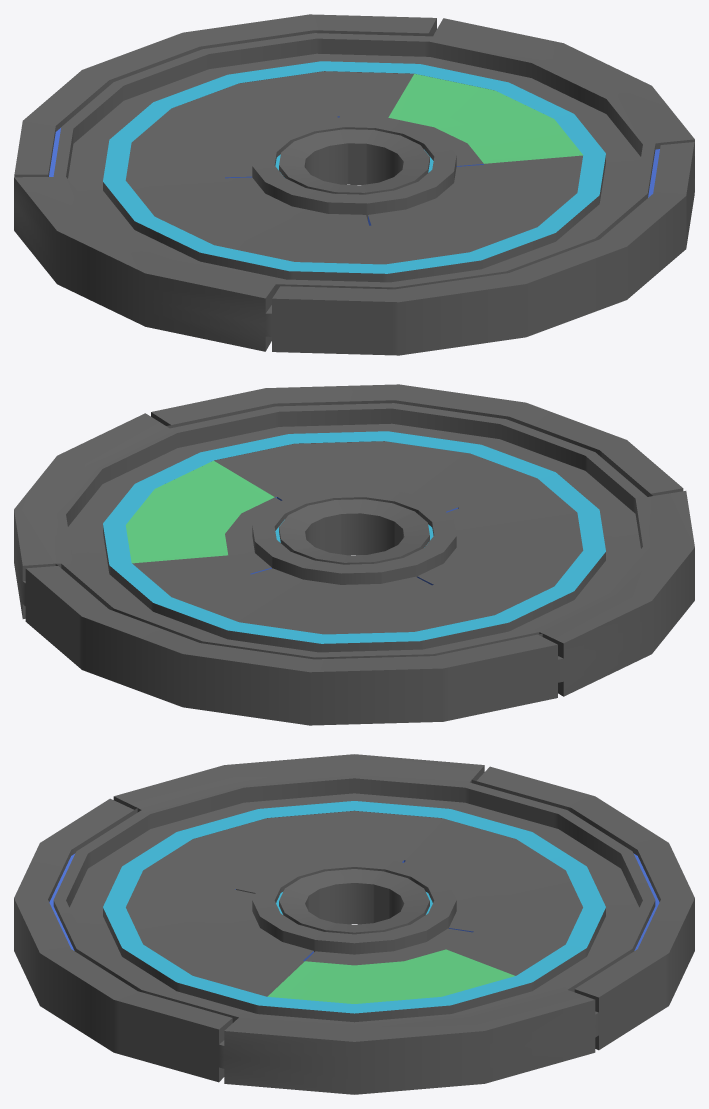
The model's file is Disco10k.fbx.
3 renders of one model, top to bottom at view 1: azimuth 30°, elevation 25°; view 2: azimuth 150°, elevation 25°; view 3: azimuth 270°, elevation 25°, orthographic.
Parts seen in each view (by area): view 1: Disco_10k; view 2: Disco_10k; view 3: Disco_10k.
Boxes of the visible parts, x1=… form: Disco_10k: x1=14, y1=14, x2=694, y2=355; Disco_10k: x1=14, y1=384, x2=694, y2=725; Disco_10k: x1=14, y1=754, x2=694, y2=1094.
Size of the model in its own units: 38.66 by 3.31 by 38.66.
